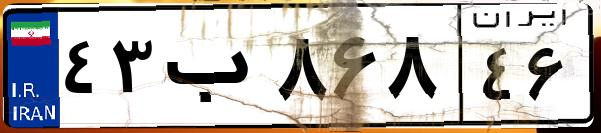3: (110, 28, 158, 98)
4: (57, 26, 110, 100), (475, 38, 525, 113)
6: (330, 28, 385, 110), (525, 38, 570, 115)
8: (270, 28, 330, 110), (385, 28, 445, 110)
ب: (158, 20, 270, 120)
